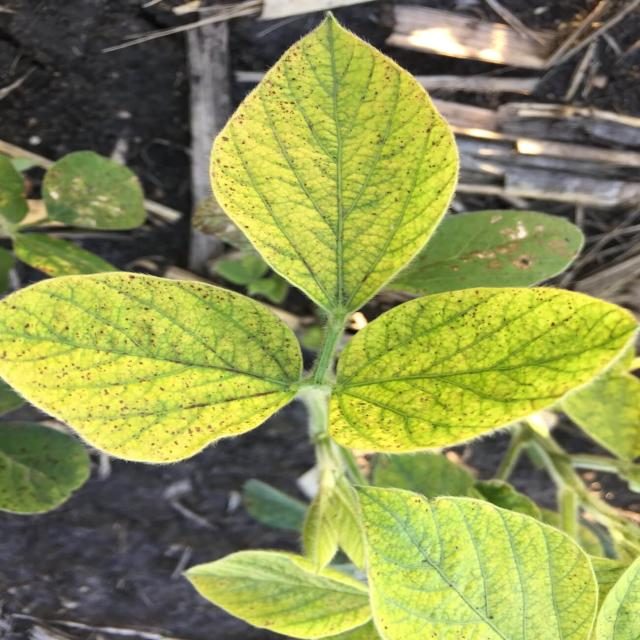Chlorosis: (8, 25, 631, 637)
